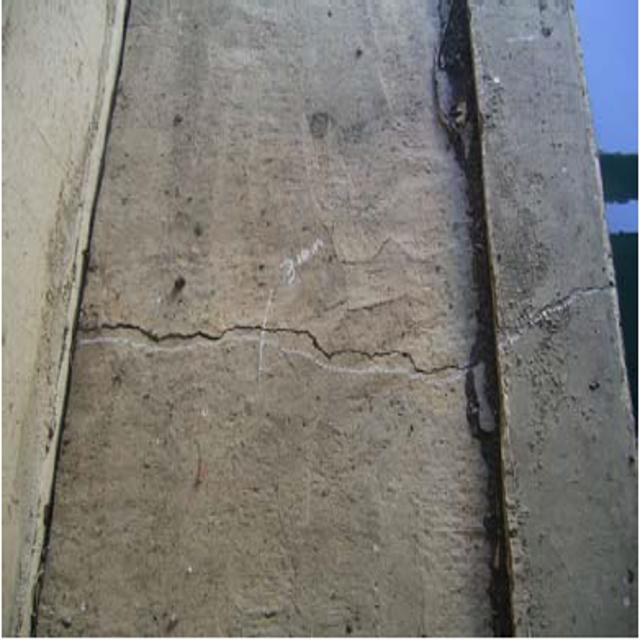crack: (69, 290, 477, 383)
